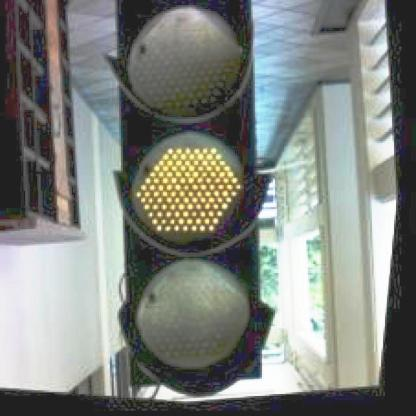Traffic Light -Yellow-: (72, 1, 317, 410)
